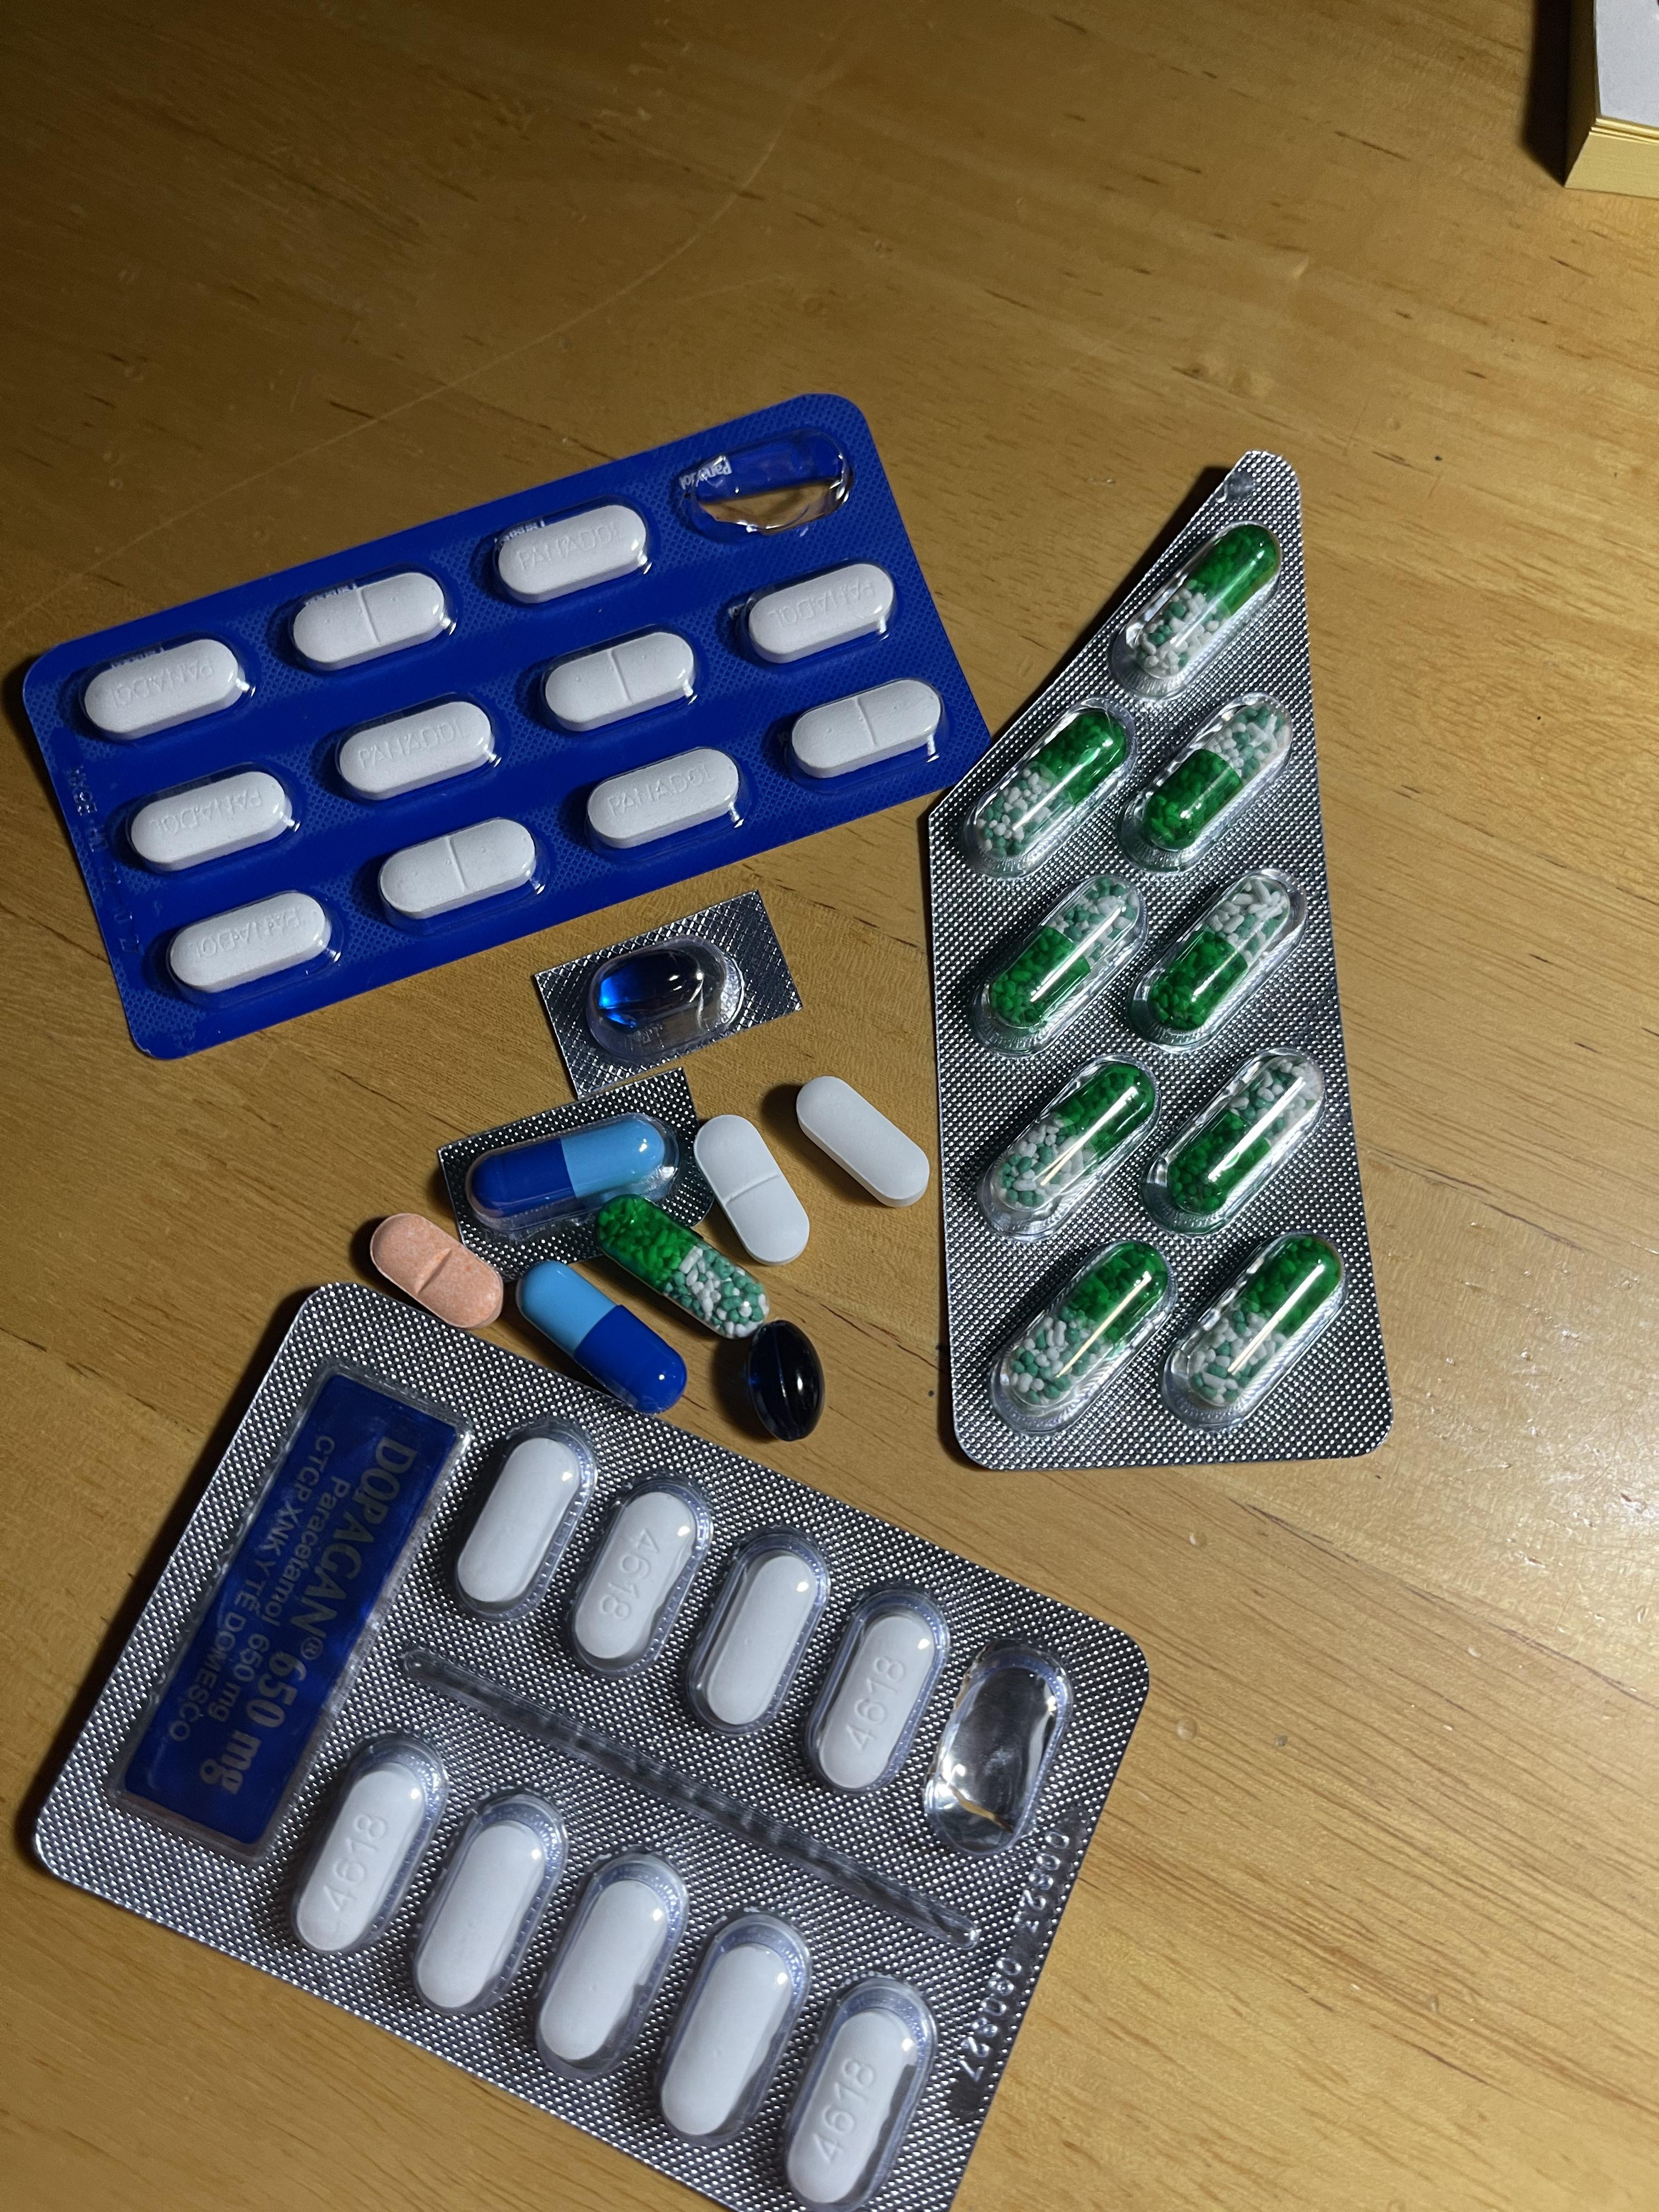Lincomyxin_500mg: (744, 1318, 828, 1442), (592, 949, 709, 1028)
Loratadine_10mg: (371, 1212, 505, 1329)
Paracetamol_350mg: (692, 1115, 812, 1263), (127, 768, 295, 874), (84, 636, 247, 742), (380, 817, 538, 925), (333, 697, 497, 801), (739, 563, 903, 667), (166, 892, 333, 993), (586, 747, 744, 852), (537, 629, 695, 732), (789, 678, 946, 780), (291, 571, 448, 672), (495, 505, 652, 606)
Paracetamol_500mg: (660, 1933, 798, 2139), (540, 1872, 676, 2069), (418, 1815, 554, 2010), (788, 2010, 917, 2203), (298, 1766, 427, 1956), (695, 1545, 823, 1728), (817, 1616, 938, 1791), (460, 1440, 584, 1606), (791, 1080, 927, 1211), (577, 1505, 687, 1660)
Paracetamol_650mg: (1183, 1237, 1338, 1409), (591, 1197, 774, 1341), (1141, 866, 1297, 1029), (1124, 528, 1277, 691), (1014, 1244, 1164, 1407), (983, 709, 1131, 867), (988, 878, 1138, 1031), (1141, 711, 1288, 866), (992, 1066, 1141, 1209), (1164, 1061, 1310, 1205)
pill: (516, 1258, 685, 1411), (467, 1116, 674, 1235)
